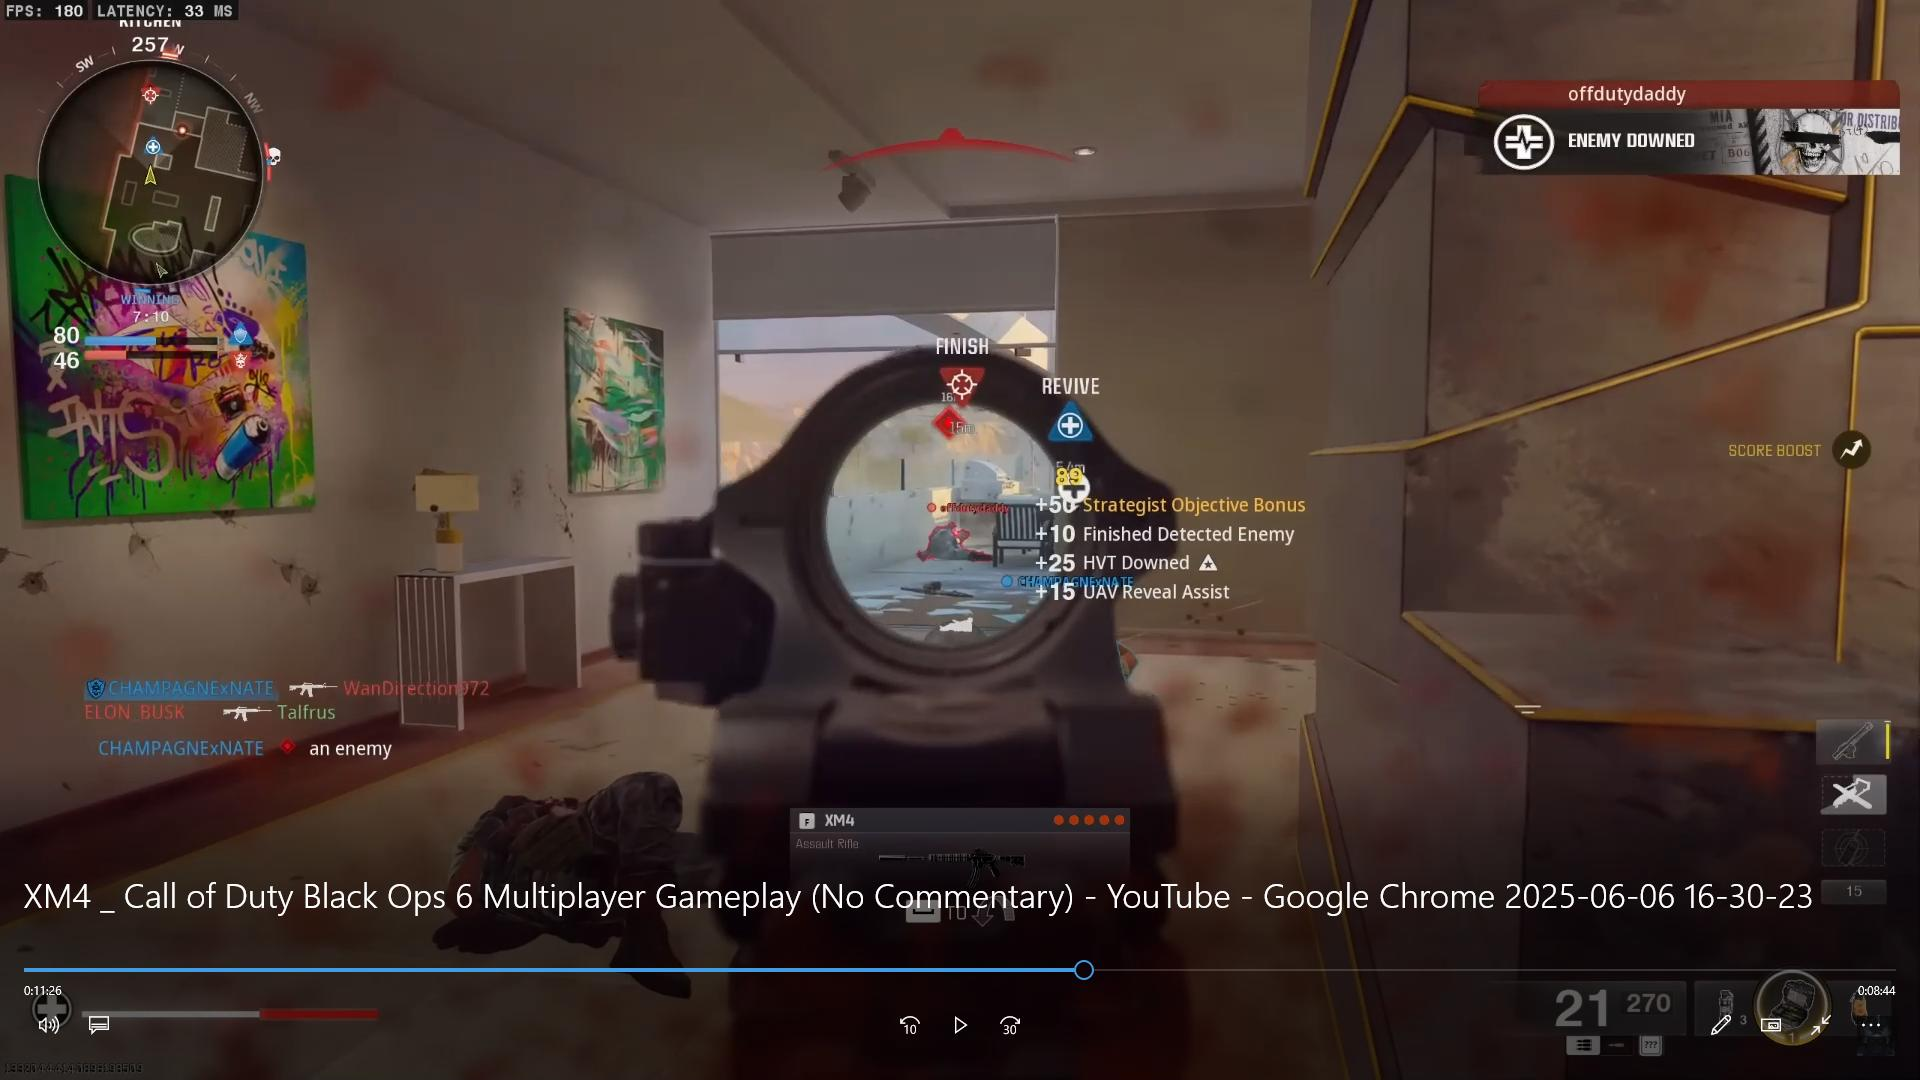Enemy: (923, 513, 989, 572)
